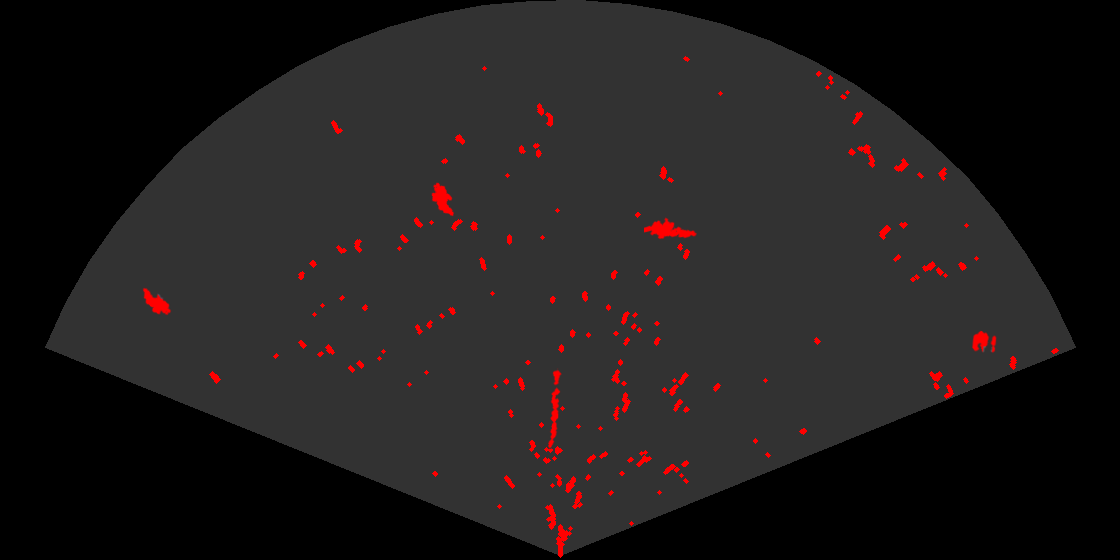AUV: (141, 286, 173, 317), (430, 181, 456, 218)
ball: (970, 329, 998, 355)
chain: (547, 368, 563, 449)
frogman: (644, 216, 697, 241)
